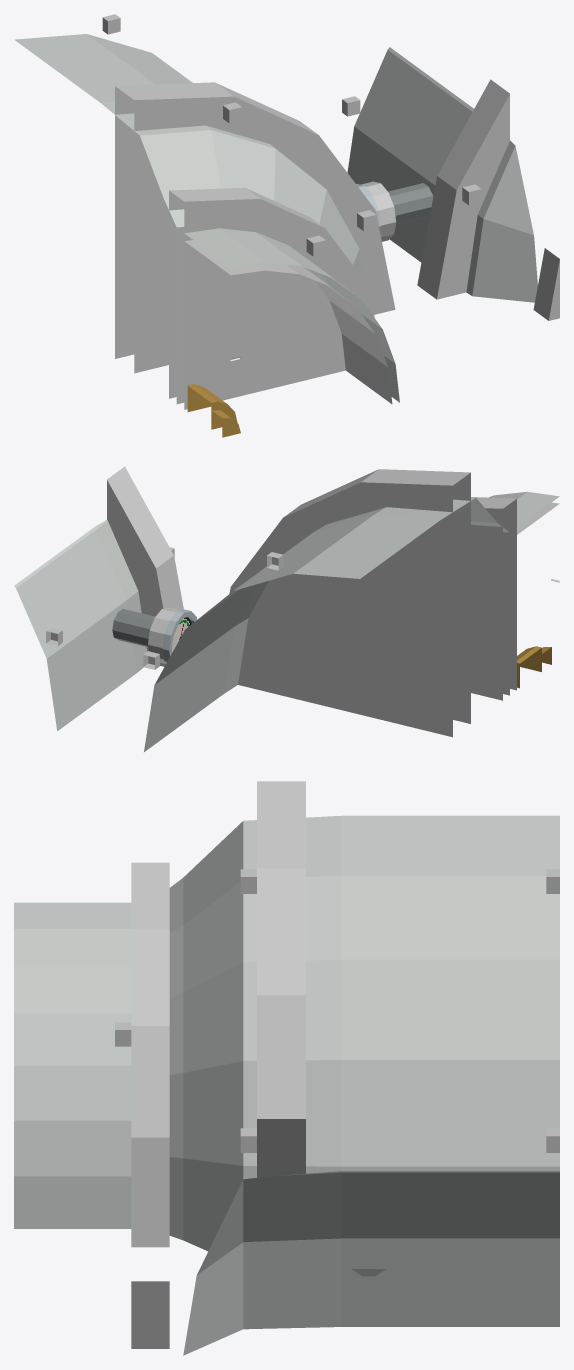
Rendered from cell_86.obj.
3 renders of one model, top to bottom at view 1: azimuth 30°, elevation 25°; view 2: azimuth 150°, elevation 25°; view 3: azimuth 270°, elevation 25°, orthographic. The views are drawn at different scales.
Bounding box in the file's own units: 1 × 0.695 × 1.
